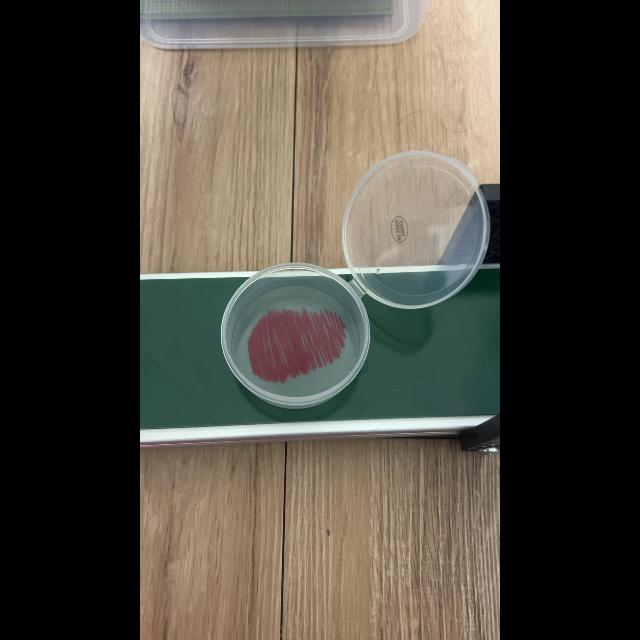dirty: (234, 280, 366, 398)
